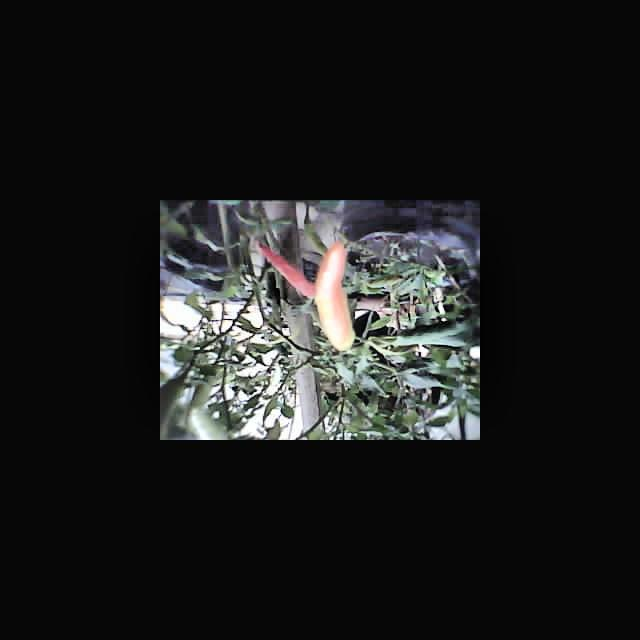Cabai: (320, 234, 356, 357), (257, 249, 319, 300)
